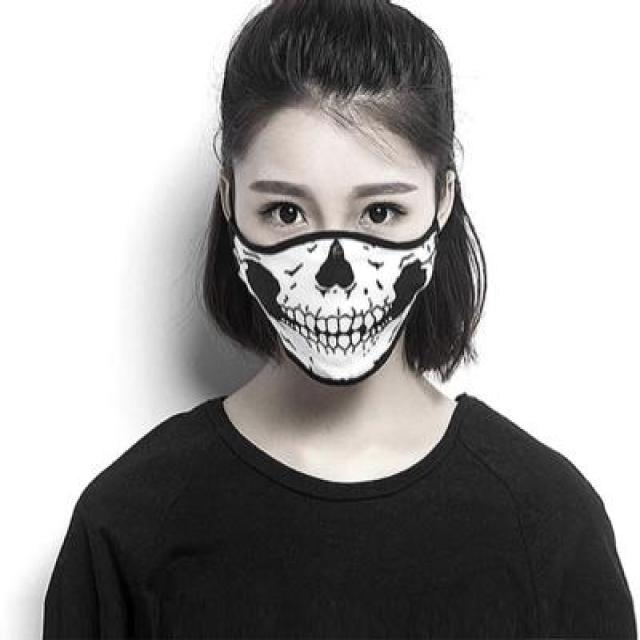with_mask: (230, 174, 441, 385)
